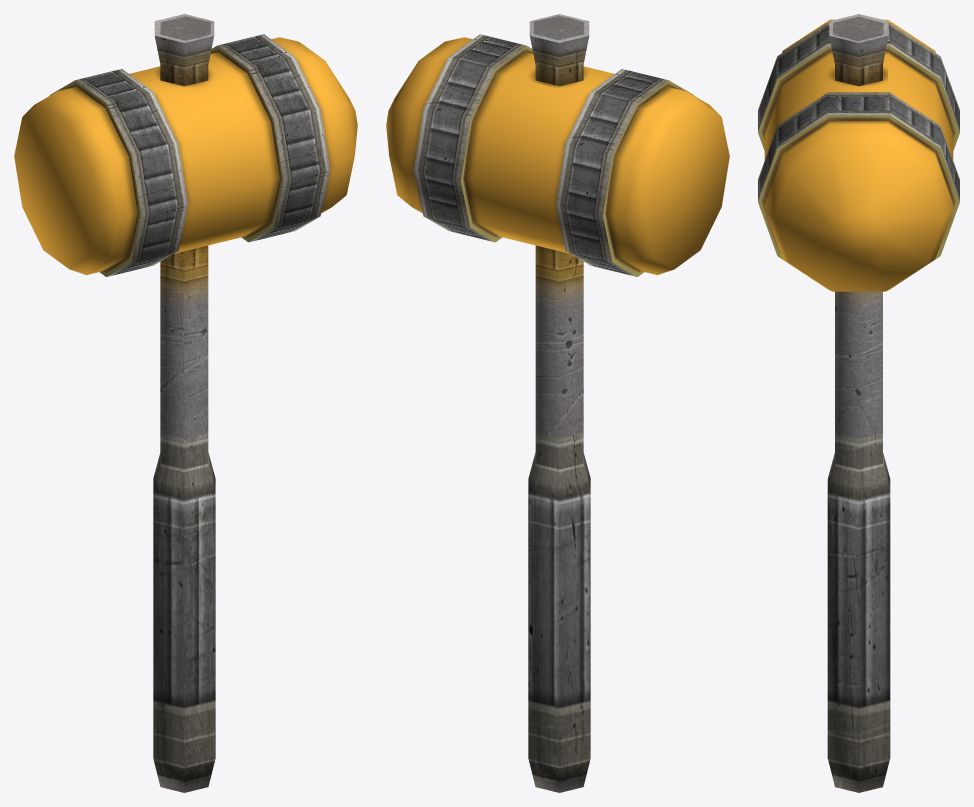
Rendered from hammer02_magic.FBX.
3 renders of one model, left to right at view 1: azimuth 30°, elevation 25°; view 2: azimuth 150°, elevation 25°; view 3: azimuth 270°, elevation 25°, orthographic.
Parts seen in each view (by area): view 1: hammer02; view 2: hammer02; view 3: hammer02.
Part boxes in pixels (box(x1,y1,x2,y2)): hammer02: box(14, 14, 357, 792); hammer02: box(386, 14, 729, 792); hammer02: box(758, 14, 959, 792).
Bounding box in the file's own units: 0.5381 × 1.31 × 0.3189.
